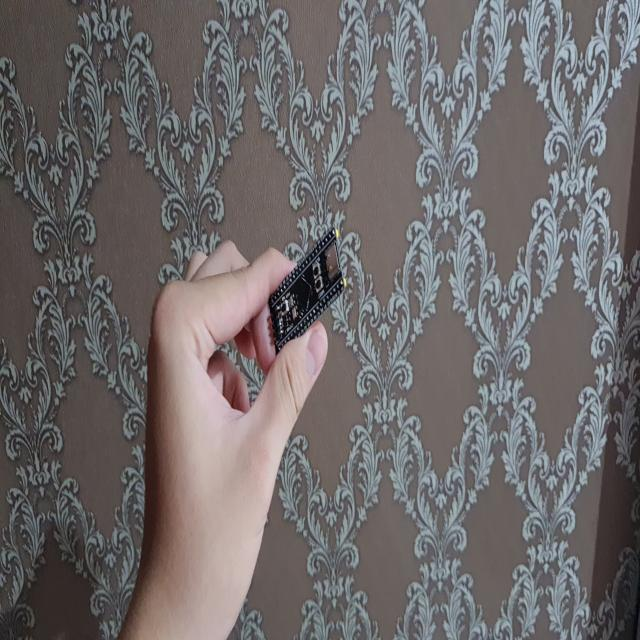STM32: (267, 224, 350, 358)
